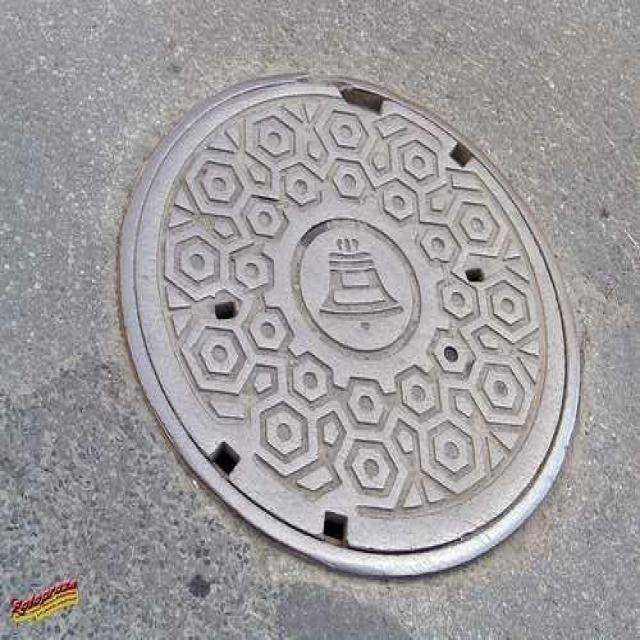manhole: (114, 75, 582, 584)
